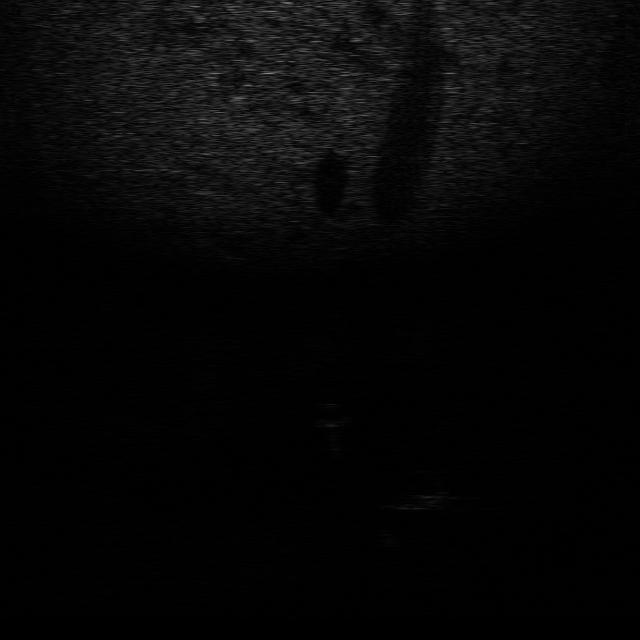ball: (306, 401, 355, 429)
metal bucket: (368, 519, 407, 550)
tyre: (385, 467, 459, 512)
